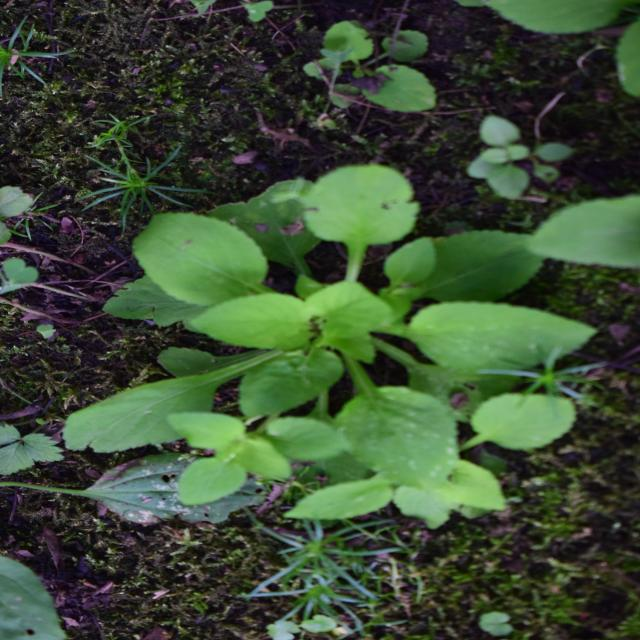Viola: (167, 105, 478, 546)
